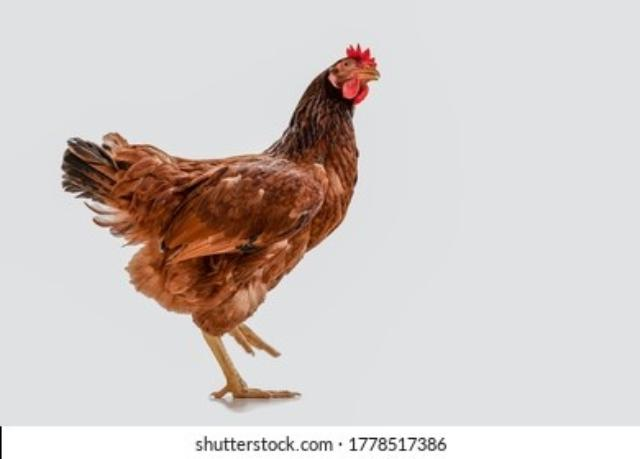Chicken: (63, 45, 381, 399)
